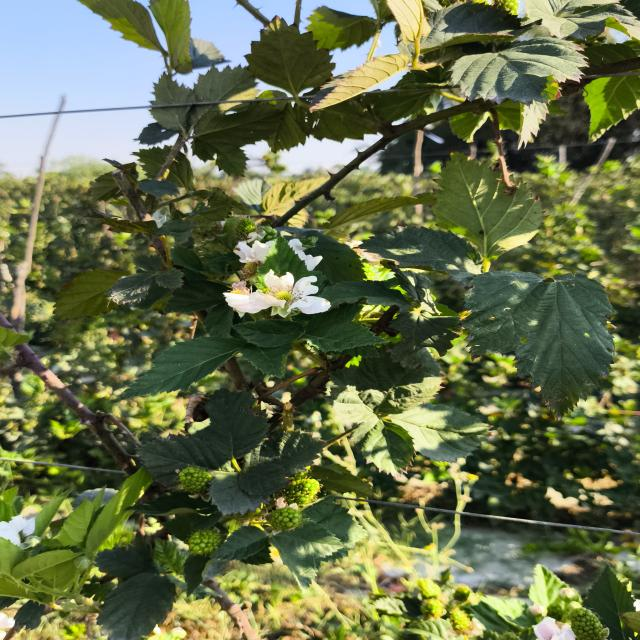flor: (223, 269, 330, 318), (233, 240, 275, 266), (288, 239, 323, 270)
verde: (284, 478, 321, 506), (187, 529, 223, 555), (179, 467, 211, 493), (269, 507, 302, 530)
